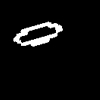chain: (14, 22, 62, 45)
